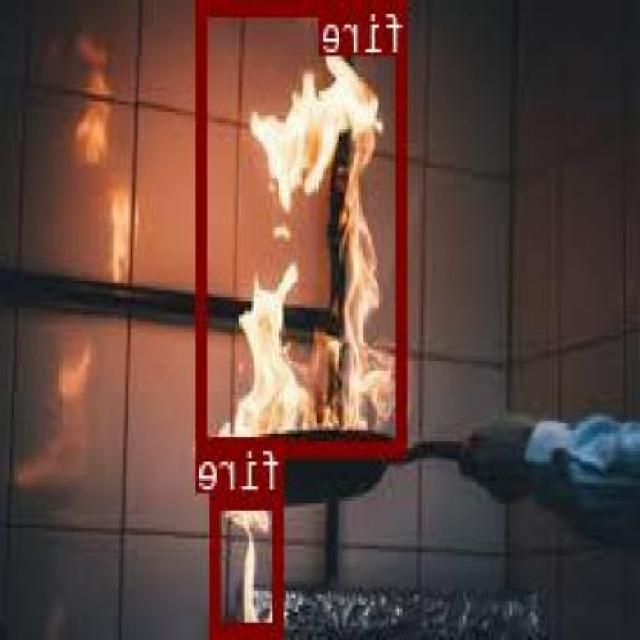Fire: (200, 0, 409, 455), (213, 493, 284, 633)
